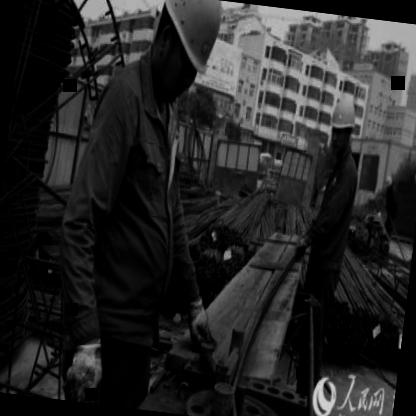helmet: (134, 0, 236, 112), (322, 86, 362, 162), (382, 168, 395, 194), (408, 166, 416, 190)
